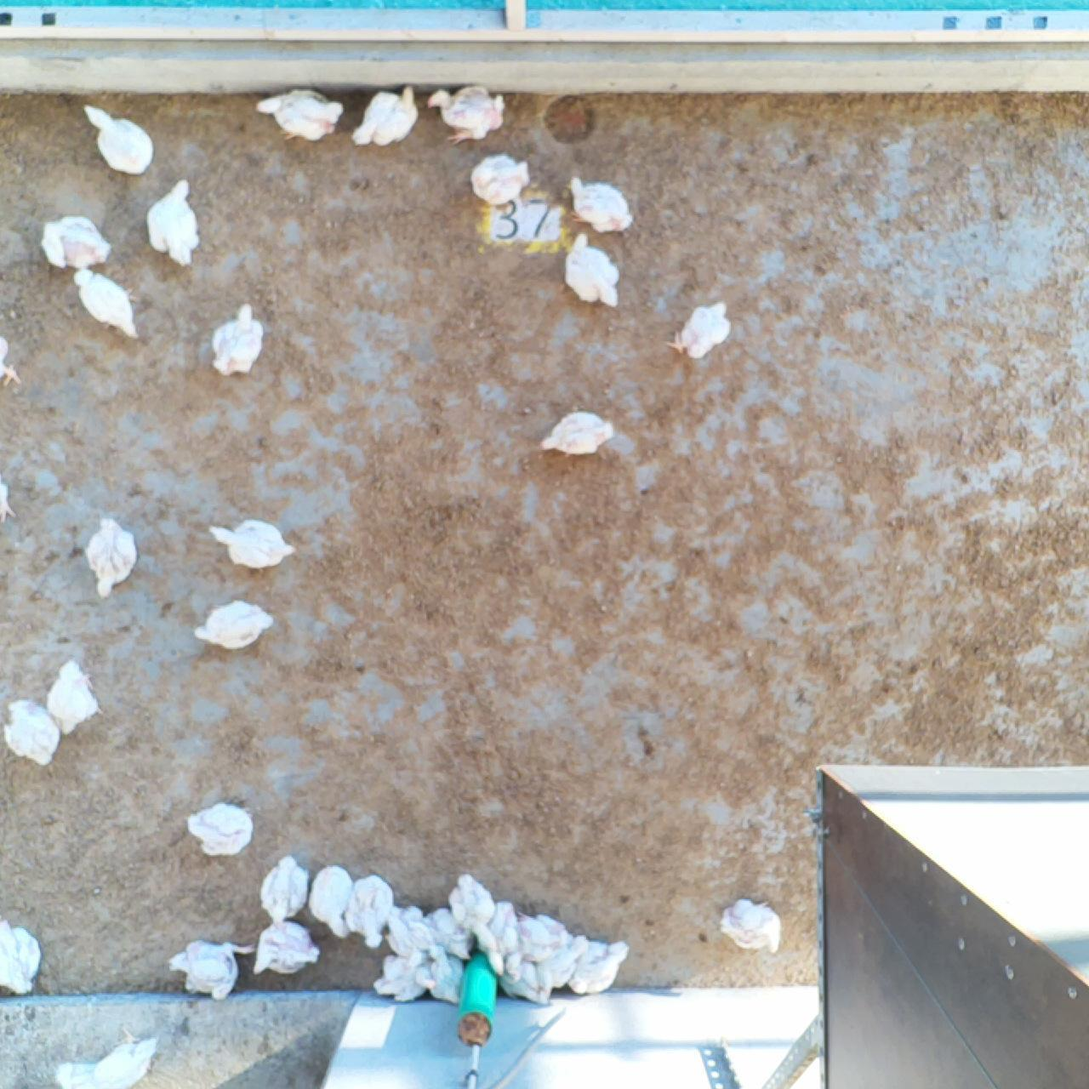chicken: (63, 1022, 167, 1089), (69, 266, 150, 343), (79, 514, 150, 599), (145, 178, 208, 267), (85, 103, 158, 179), (185, 797, 265, 865), (253, 87, 344, 144), (191, 596, 277, 656), (40, 212, 118, 278), (423, 88, 510, 146), (718, 893, 790, 963), (211, 519, 306, 572), (352, 81, 424, 150), (540, 405, 627, 462), (44, 660, 108, 736), (562, 177, 644, 236), (461, 152, 542, 208), (210, 302, 266, 383), (559, 234, 621, 306), (1, 700, 64, 770), (170, 941, 241, 1000), (255, 857, 311, 931), (304, 866, 361, 937), (248, 924, 325, 975), (506, 912, 566, 976), (345, 869, 392, 950), (669, 302, 732, 362), (0, 917, 50, 992), (569, 937, 630, 997), (449, 874, 496, 950), (375, 952, 437, 1002), (386, 900, 433, 958), (482, 900, 517, 977), (497, 959, 554, 1006), (429, 907, 474, 959), (549, 935, 589, 987), (430, 955, 465, 1006), (0, 334, 24, 396), (0, 477, 17, 528)
